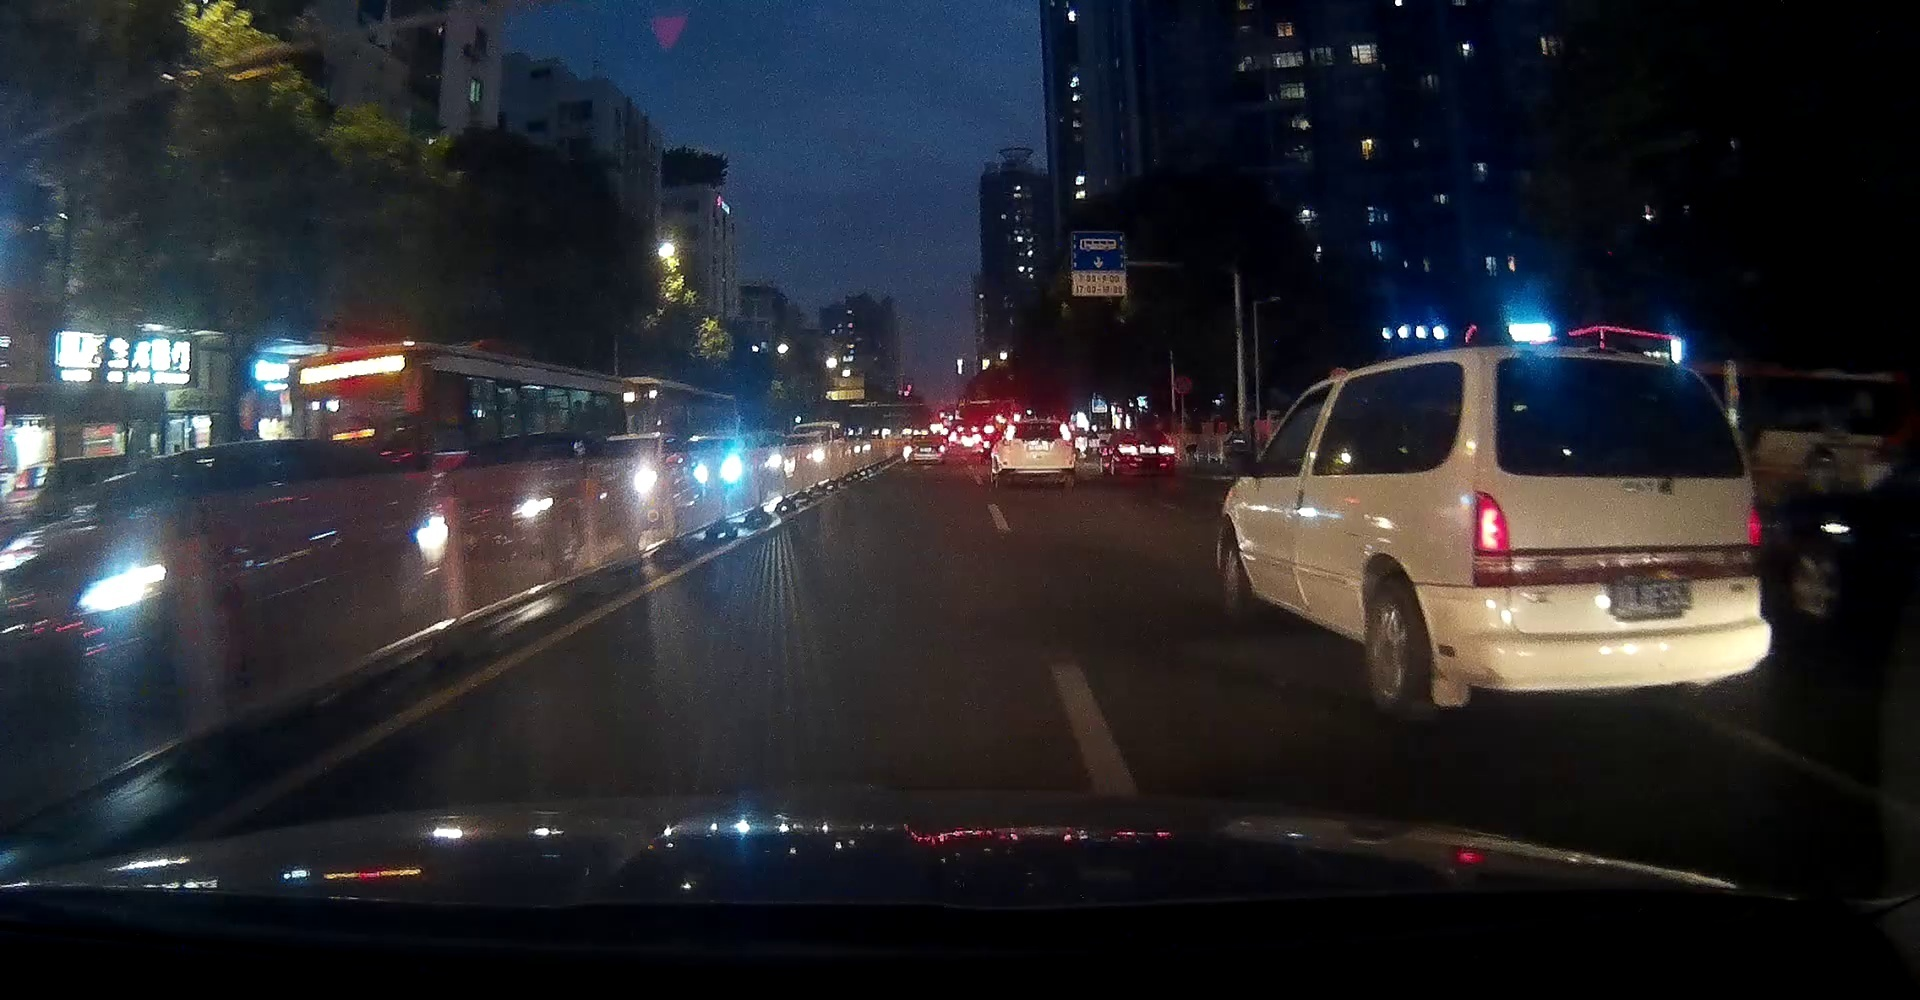L_light: (1476, 489, 1510, 556), (1002, 439, 1012, 447)
R_light: (1749, 508, 1763, 548), (1062, 440, 1073, 447)
T_light: (1610, 360, 1630, 371), (1034, 424, 1043, 426)
night-no: (1464, 345, 1773, 720), (1002, 420, 1076, 489)
